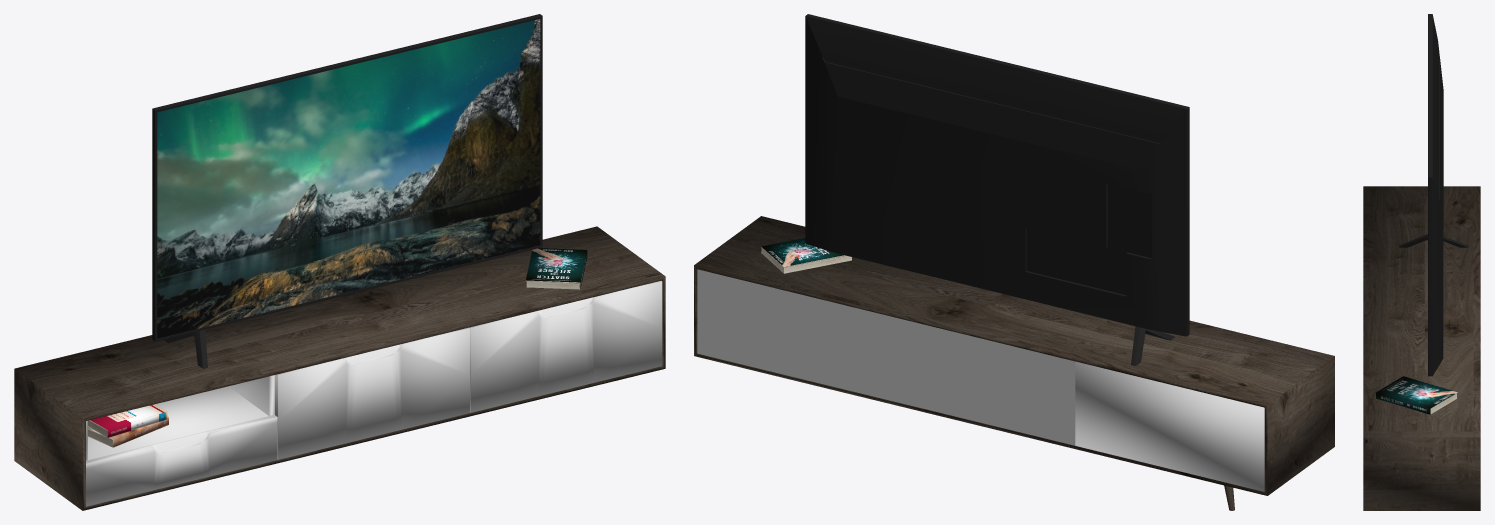
3 views of the same model, side by side, from view 1: azimuth 30°, elevation 25°; view 2: azimuth 150°, elevation 25°; view 3: azimuth 270°, elevation 25° (orthographic). The views are drawn at different scales.
Visible parts, largest first — view 1: TV, Cabinet_cover, Cabinet1_Door, Cabinet1, book_cover.007, book_cover.006; view 2: TV, Cabinet_cover, Cabinet2, Cabinet3, Cabinet1, book_cover.007; view 3: Cabinet_cover, TV, book_cover.007, tv_legs.
Boxes of the visible parts, x1,y1,x2,y2 form: TV: (152,14,542,341); Cabinet_cover: (14,226,665,510); Cabinet1_Door: (86,281,662,506); Cabinet1: (86,375,274,460); book_cover.007: (525,248,587,289); book_cover.006: (88,404,167,437); TV: (805,14,1189,336); Cabinet_cover: (694,216,1334,495); Cabinet2: (886,315,1075,445); Cabinet3: (697,269,886,399); Cabinet1: (1075,361,1264,491); book_cover.007: (761,238,845,267); Cabinet_cover: (1363,186,1480,510); TV: (1428,14,1443,376); book_cover.007: (1376,376,1457,414); tv_legs: (1399,234,1468,247).
Bounding box in the file's own units: 1.82 × 1.12 × 0.369.
8 materials, 6 textured.
